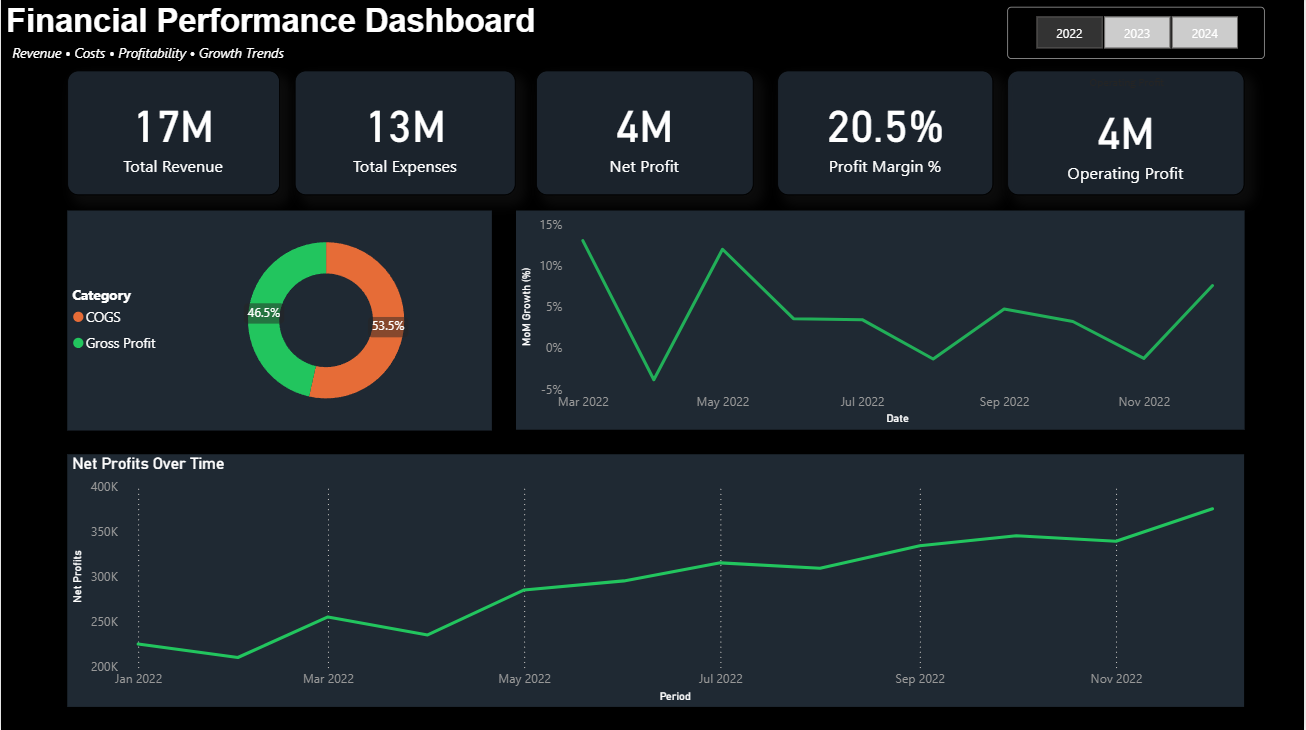

This screenshot's page, from the dashboard's own definition file:
{"tool":"powerbi","page":{"name":"Page 1","canvas":[1280,720],"ordinal":0},"visuals":[{"type":"card","fields":{"Values":["P&L.Net Profits"]},"box":[525.2,71.2,213.5,122.7],"z":0},{"type":"lineChart","title":"Net Profits Over Time","fields":{"Y":["P&L.Net Profits"],"Category":["P&L.Date"]},"box":[64.5,447.3,1155.4,248.4],"z":1000},{"type":"card","title":"Operating Profit","fields":{"Values":["Sum(P&L.Operating Profit)"]},"box":[987.7,71.2,233.1,122.7],"z":2000},{"type":"card","fields":{"Values":["P&L.Total Revenue"]},"box":[65,71.2,208.6,122.7],"z":3000},{"type":"card","fields":{"Values":["P&L.Total Expenses"]},"box":[288.3,71.2,217.2,122.7],"z":4000},{"type":"card","fields":{"Values":["P&L.Profit Margin %"]},"box":[762,71.2,212.3,122.7],"z":5000},{"type":"lineChart","fields":{"Y":["P&L.Revenue MoM %"],"Category":["P&L.Date"]},"box":[505,208.6,714.9,215.4],"z":6000},{"type":"donutChart","fields":{"Category":["Cost Breakdown (2).Category"],"Y":["Cost Breakdown (2).Gross Profit vs COGS"]},"box":[65,208.6,417.2,216],"z":7000},{"type":"textbox","box":[0,0,722.7,54],"z":8000},{"type":"textbox","box":[6.1,39.3,326.4,28.2],"z":9000},{"type":"slicer","fields":{"Values":["P&L.Date.Variation.Date Hierarchy.Year"]},"box":[987.7,8.6,253,51],"z":10000}]}

Visuals, with their boxes in screenshot pixels (x1, y1, x2, y2), scaled from the page's 1280x720 canvas onto the 1306x730 screenshot:
card - P&L.Net Profits: left=536, top=72, right=754, bottom=197
"Net Profits Over Time" lineChart: left=66, top=454, right=1245, bottom=705
"Operating Profit" card: left=1008, top=72, right=1246, bottom=197
card - P&L.Total Revenue: left=66, top=72, right=279, bottom=197
card - P&L.Total Expenses: left=294, top=72, right=516, bottom=197
card - P&L.Profit Margin %: left=777, top=72, right=994, bottom=197
lineChart - P&L.Revenue MoM % x P&L.Date: left=515, top=211, right=1245, bottom=430
donutChart - Cost Breakdown (2).Category x Cost Breakdown (2).Gross Profit vs COGS: left=66, top=211, right=492, bottom=430
textbox: left=0, top=0, right=737, bottom=55
textbox: left=6, top=40, right=339, bottom=68
slicer - P&L.Date.Variation.Date Hierarchy.Year: left=1008, top=9, right=1266, bottom=60
